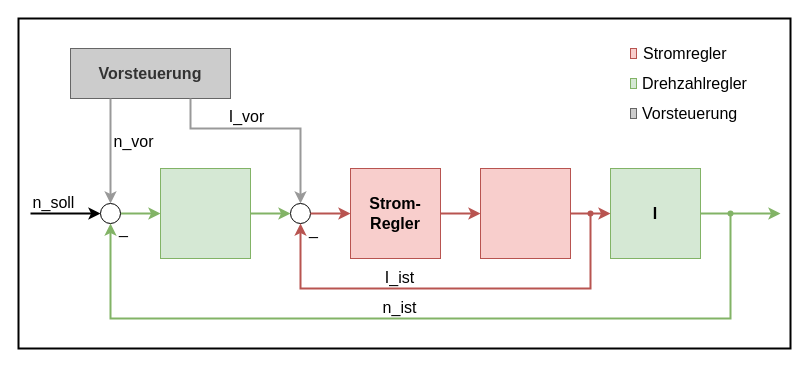
Some shapes in this 808 by 366 pixel diagram are drawn without their labels. The centre of each missing label's shape, as x and y in pixels:
Drehzahl-Regler: point (205, 213)
PT1: point (525, 213)
